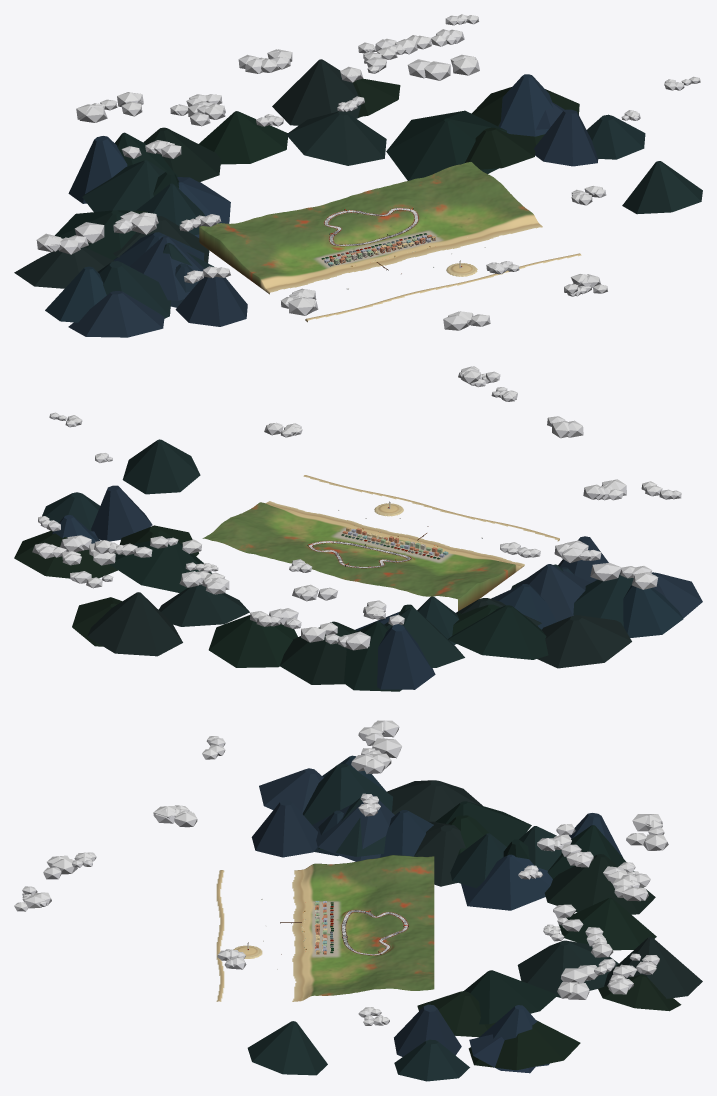
File: level.glb
The picture shows the model from 3 angles, top to bottom: view 1: azimuth 30°, elevation 25°; view 2: azimuth 150°, elevation 25°; view 3: azimuth 270°, elevation 25°; orthographic projection. The views are drawn at different scales.
Visible parts, largest first — view 1: backdrop, clouds, terrain_3_2, terrain_0_2, terrain_0_3, terrain_3_3, terrain_2_3, terrain_2_2, terrain_1_3, terrain_1_2, terrain_0_1, terrain_3_1 (+5 smaller); view 2: backdrop, clouds, terrain_0_3, terrain_3_3, terrain_1_3, terrain_0_2, terrain_3_2, terrain_2_3, terrain_2_2, terrain_1_2, props, terrain_0_1 (+3 smaller); view 3: backdrop, clouds, terrain_0_3, terrain_0_2, terrain_1_3, terrain_2_2, terrain_2_3, terrain_3_3, terrain_1_2, terrain_3_2, terrain_0_1, terrain_3_1 (+4 smaller).
Boxes of the visible parts, box(x1,y1,x2,y2) form: backdrop: box(14, 59, 702, 337); clouds: box(36, 14, 700, 330); terrain_3_2: box(432, 183, 528, 232); terrain_0_2: box(228, 238, 324, 284); terrain_0_3: box(199, 215, 295, 263); terrain_3_3: box(404, 162, 500, 206); terrain_2_3: box(336, 182, 432, 223); terrain_2_2: box(365, 206, 460, 247); terrain_1_3: box(267, 201, 363, 238); terrain_1_2: box(296, 223, 391, 265); terrain_0_1: box(257, 265, 337, 294); terrain_3_1: box(462, 210, 542, 242); backdrop: box(14, 439, 702, 691); clouds: box(32, 366, 681, 650); terrain_0_3: box(394, 570, 485, 611); terrain_3_3: box(202, 518, 292, 556); terrain_1_3: box(330, 556, 420, 587); terrain_0_2: box(422, 556, 512, 594); terrain_3_2: box(230, 504, 319, 540); terrain_2_3: box(266, 540, 356, 574); terrain_2_2: box(294, 525, 380, 556); terrain_1_2: box(358, 542, 448, 570); props: box(307, 501, 482, 566); terrain_0_1: box(449, 549, 524, 574); backdrop: box(247, 755, 702, 1081); clouds: box(14, 720, 668, 1025); terrain_0_3: box(377, 855, 434, 895); terrain_0_2: box(319, 858, 376, 901); terrain_1_3: box(377, 893, 434, 930); terrain_2_2: box(319, 930, 376, 967); terrain_2_3: box(377, 929, 434, 963); terrain_3_3: box(377, 959, 434, 990); terrain_1_2: box(319, 896, 376, 934); terrain_3_2: box(319, 963, 376, 995); terrain_0_1: box(292, 863, 319, 903); terrain_3_1: box(292, 968, 319, 1001).
Size of the model in its own units: 3088 by 414 by 2834.
